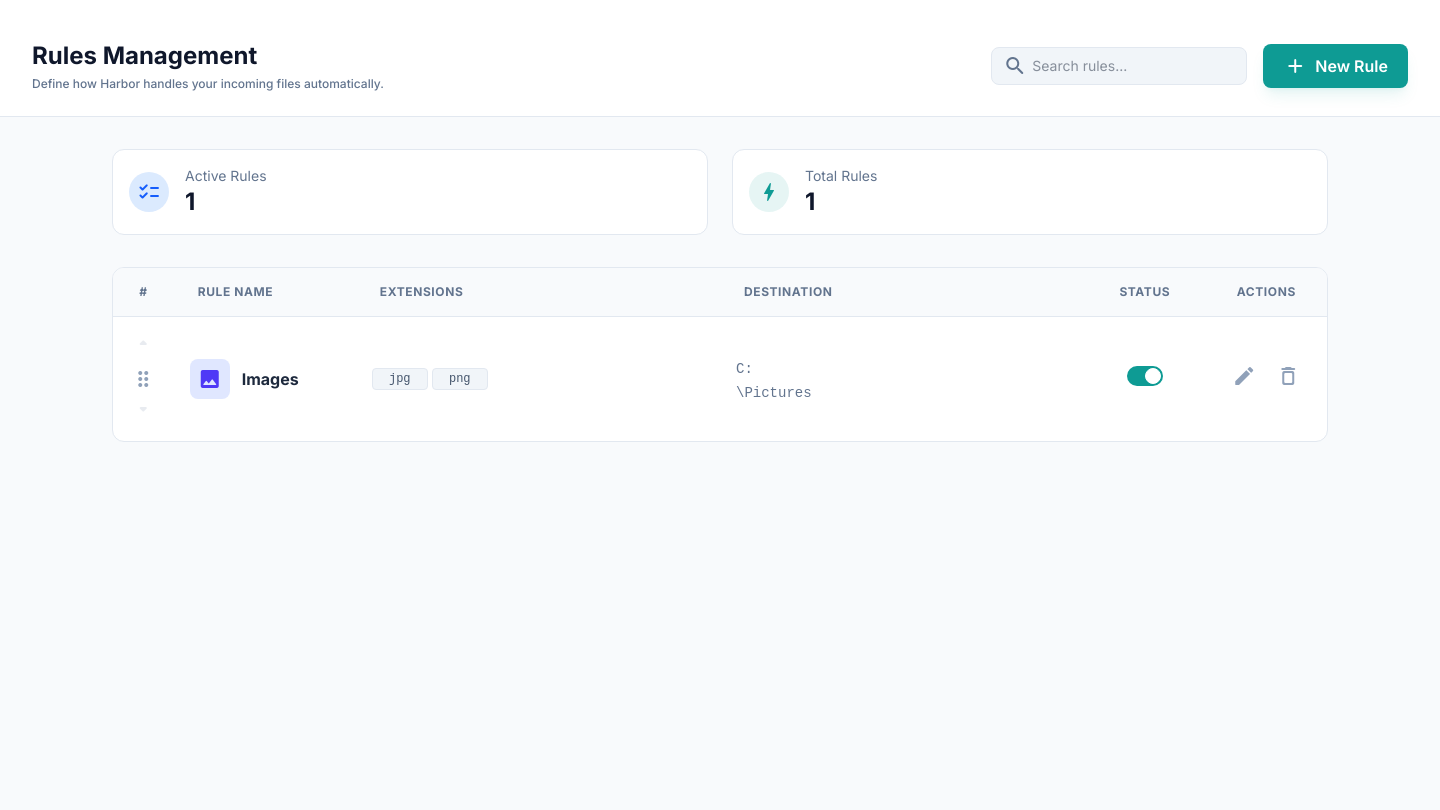
Scenario: RulesPage › opens edit modal when edit button is clicked
This screenshot has width=1440, height=810.
Click the button named "Edit Images" at (1244, 379), box [1226,358,1262,400]
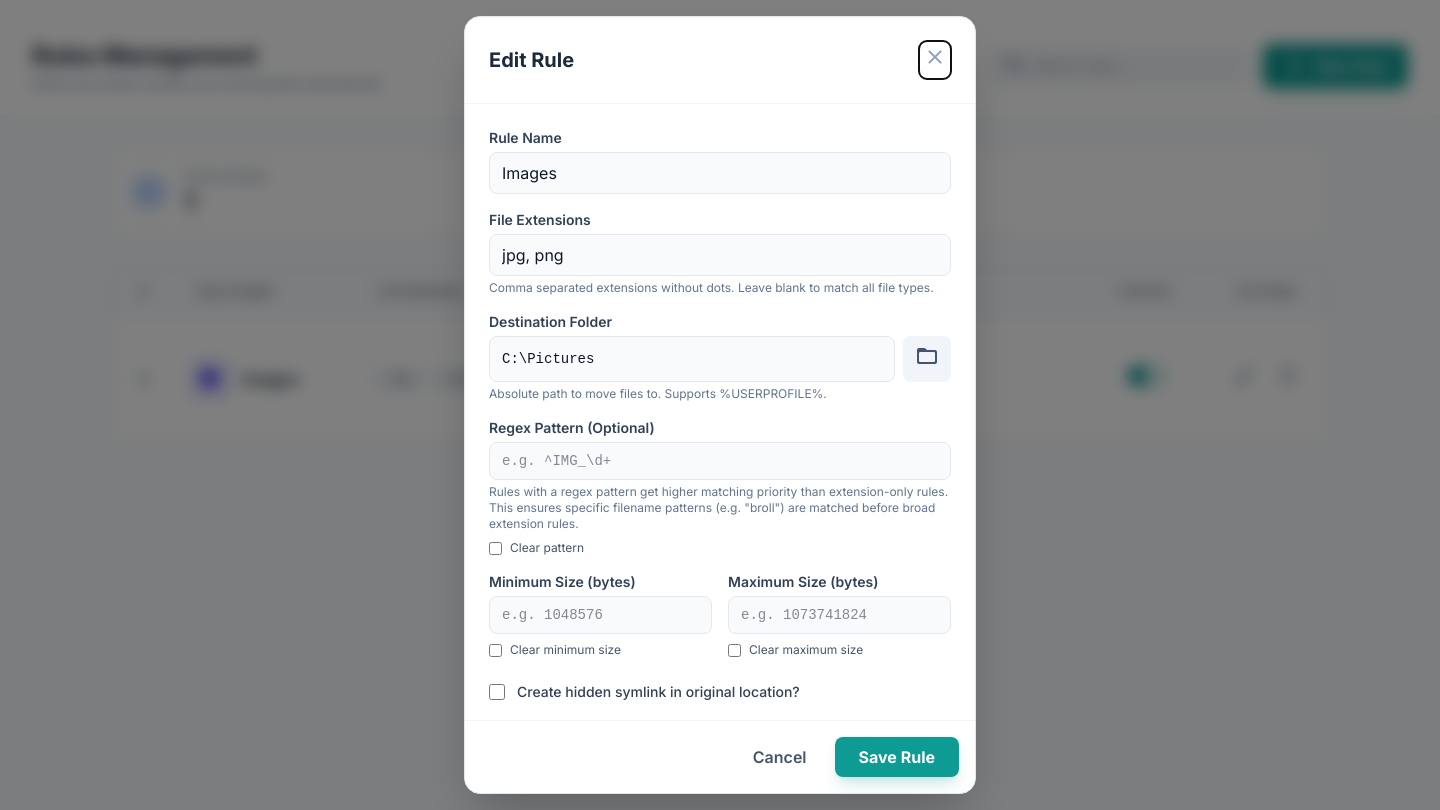
expect the heading "Edit Rule" is shown: met, box [489,46,574,74]
